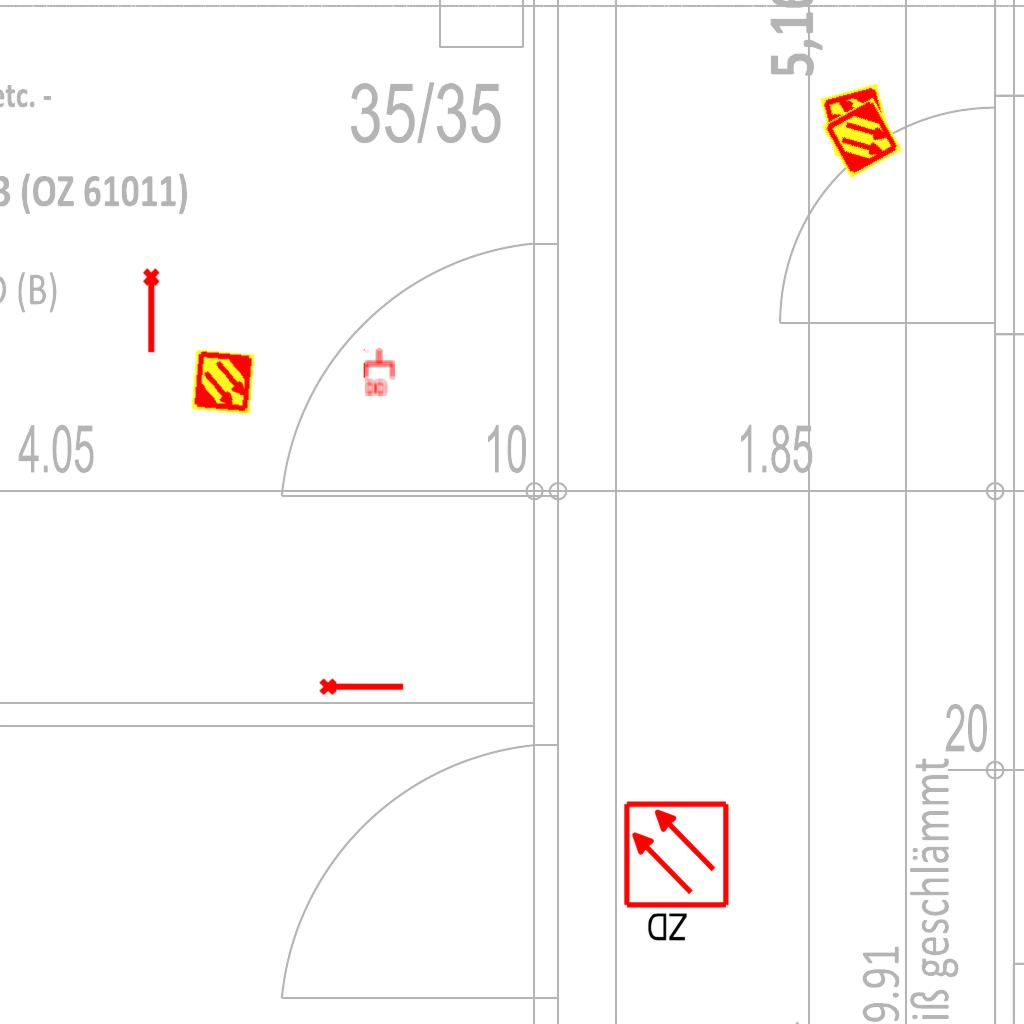ASR_Ansaugoeffnung: (141, 267, 164, 355), (318, 674, 406, 697)
ASR_Ansaugrauchmelder: (819, 95, 905, 181), (818, 82, 894, 158), (189, 348, 257, 416)
Datenanschluss_zweifach: (363, 347, 397, 398)
ZD_Melder_in_Zwischendecke_mit_Revisionsoeffnung_mind_40_x_40_cm: (621, 799, 735, 948)
